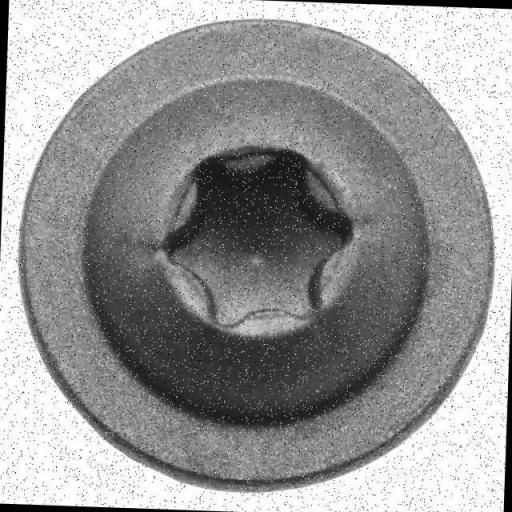Torx: (6, 23, 490, 502)
